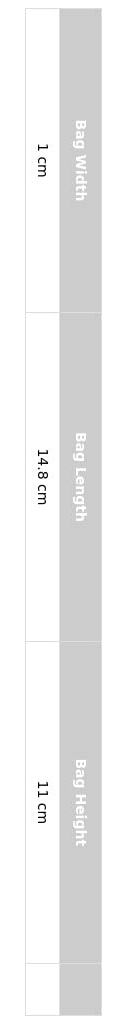Bag: (73, 120, 86, 148), (73, 433, 86, 461), (73, 760, 86, 787)
Height: (73, 795, 87, 846)
Length: (73, 468, 87, 521)
Width: (76, 155, 87, 200)
